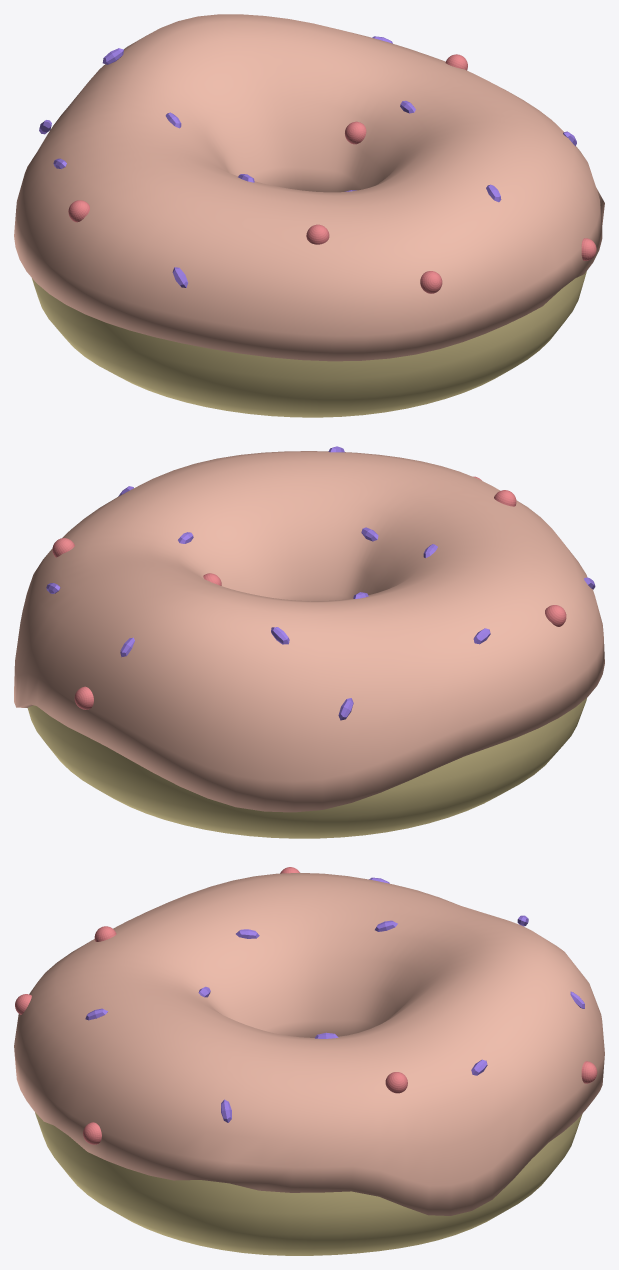
The model's file is Donut.glb.
The picture shows the model from 3 angles, top to bottom: view 1: azimuth 30°, elevation 25°; view 2: azimuth 150°, elevation 25°; view 3: azimuth 270°, elevation 25°; orthographic projection. The views are drawn at different scales.
Visible parts, largest first — view 1: Icing, Donut, Sphere, Cube.003; view 2: Icing, Donut, Cube.003, Sphere; view 3: Icing, Donut, Sphere, Cube.003.
Part boxes in pixels (x1,y1,x2,y2): Icing: (14,14,604,361); Donut: (32,271,586,417); Sphere: (68,54,596,293); Cube.003: (39,36,576,287); Icing: (14,451,604,812); Donut: (27,698,586,838); Cube.003: (46,446,595,720); Sphere: (52,476,566,709); Icing: (14,872,604,1215); Donut: (35,1112,582,1255); Sphere: (15,867,597,1144); Cube.003: (85,877,584,1122).
Bounding box in the file's own units: 1.28 × 0.5516 × 1.3.
